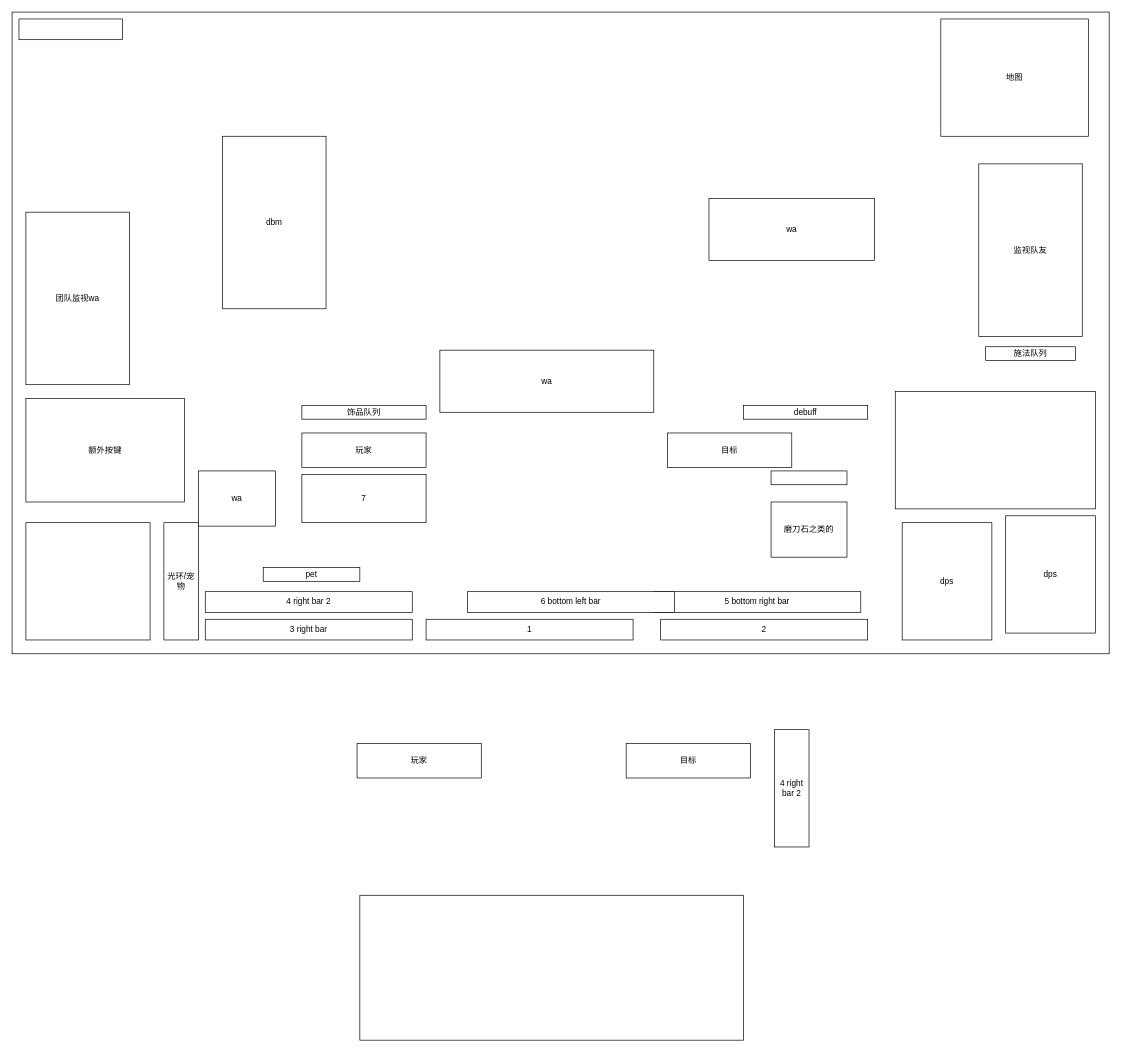
The diagram is 1121 pixels wide and 1052 high, and some of its shapes have lost their labels. Here are the shapes that lost their labels. From the top down, the box of each, then its label:
(18, 18, 122, 40): 人物栏
(895, 391, 1095, 509): 仇恨？
(770, 470, 847, 485): 目标的目标
(25, 522, 150, 640): 聊天
(359, 895, 743, 1040): 团队框架
